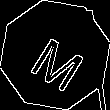M_NE: (22, 21, 88, 89)
